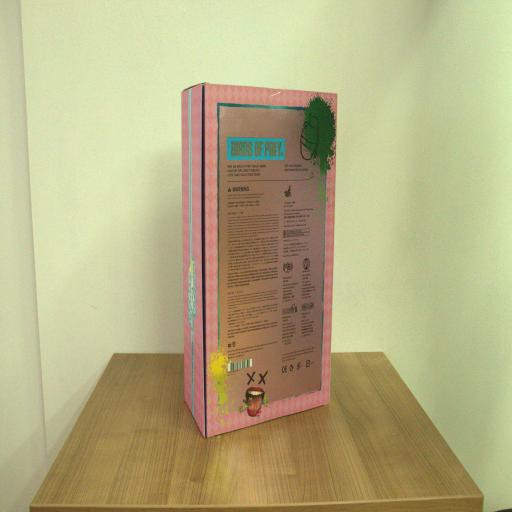Harley: (180, 80, 338, 439)
